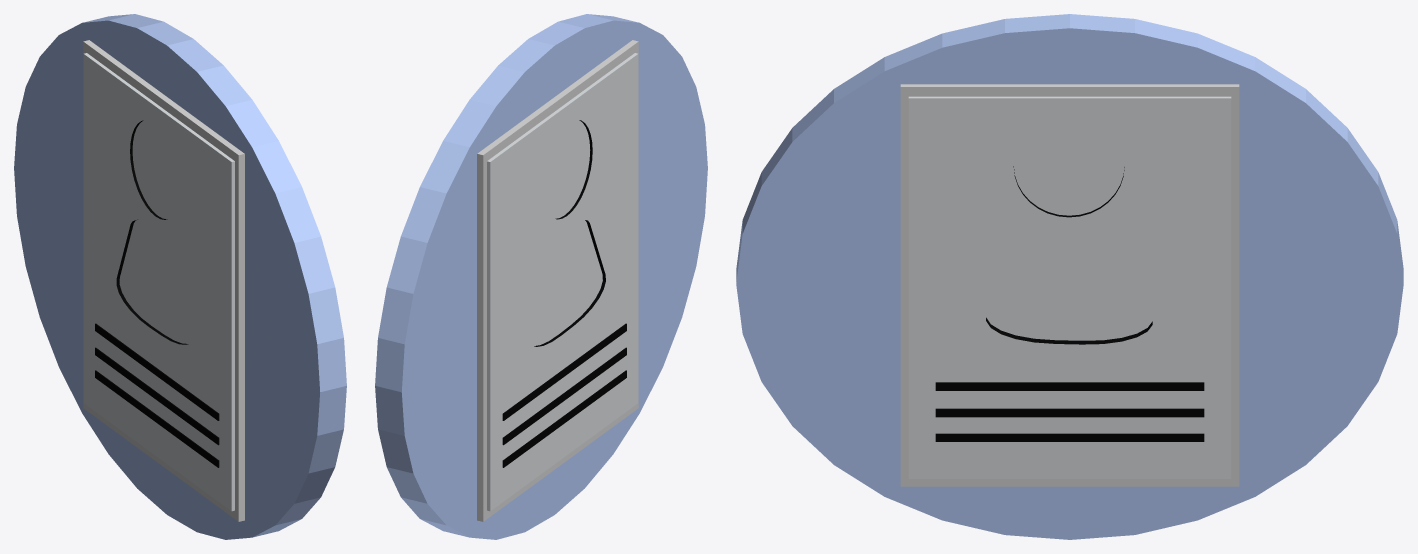
The model's file is Certificado.glb.
3 renders of one model, left to right at view 1: azimuth 30°, elevation 25°; view 2: azimuth 150°, elevation 25°; view 3: azimuth 270°, elevation 25°, orthographic. The views are drawn at different scales.
Parts seen in each view (by area): view 1: Circle, Cube.001, Cube.002, Linea.002, Linea, Linea.001, Cube; view 2: Circle, Cube.001, Cube.002, Linea.002, Linea, Linea.001, Cube; view 3: Circle, Cube.001, Cube.002, Linea.001, Linea, Linea.002.
Boxes of the visible parts, x1,y1,x2,y2 form: Circle: (14, 14, 346, 539); Cube.001: (83, 53, 234, 511); Cube.002: (83, 40, 244, 521); Linea.002: (95, 370, 219, 467); Linea: (95, 323, 219, 420); Linea.001: (95, 347, 219, 445); Cube: (116, 219, 188, 344); Circle: (375, 14, 707, 539); Cube.001: (487, 53, 638, 511); Cube.002: (477, 40, 638, 521); Linea.002: (502, 370, 626, 467); Linea: (502, 323, 626, 420); Linea.001: (502, 347, 626, 445); Cube: (534, 220, 605, 346); Circle: (736, 14, 1403, 539); Cube.001: (908, 96, 1231, 478); Cube.002: (900, 84, 1239, 486); Linea.001: (935, 408, 1204, 417); Linea: (935, 382, 1204, 390); Linea.002: (935, 433, 1204, 441).
Size of the model in its own units: 0.3764 by 3.06 by 3.61.
